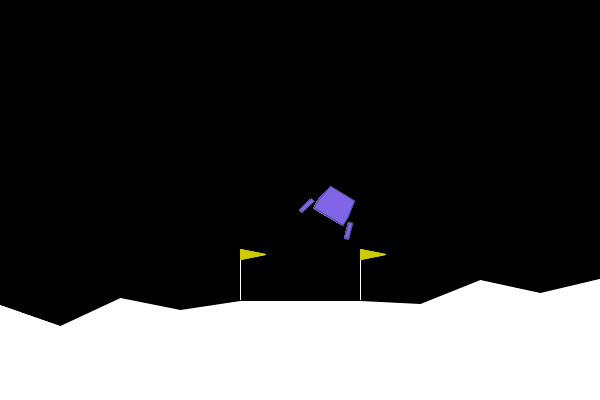lander: (297, 177, 369, 242)
